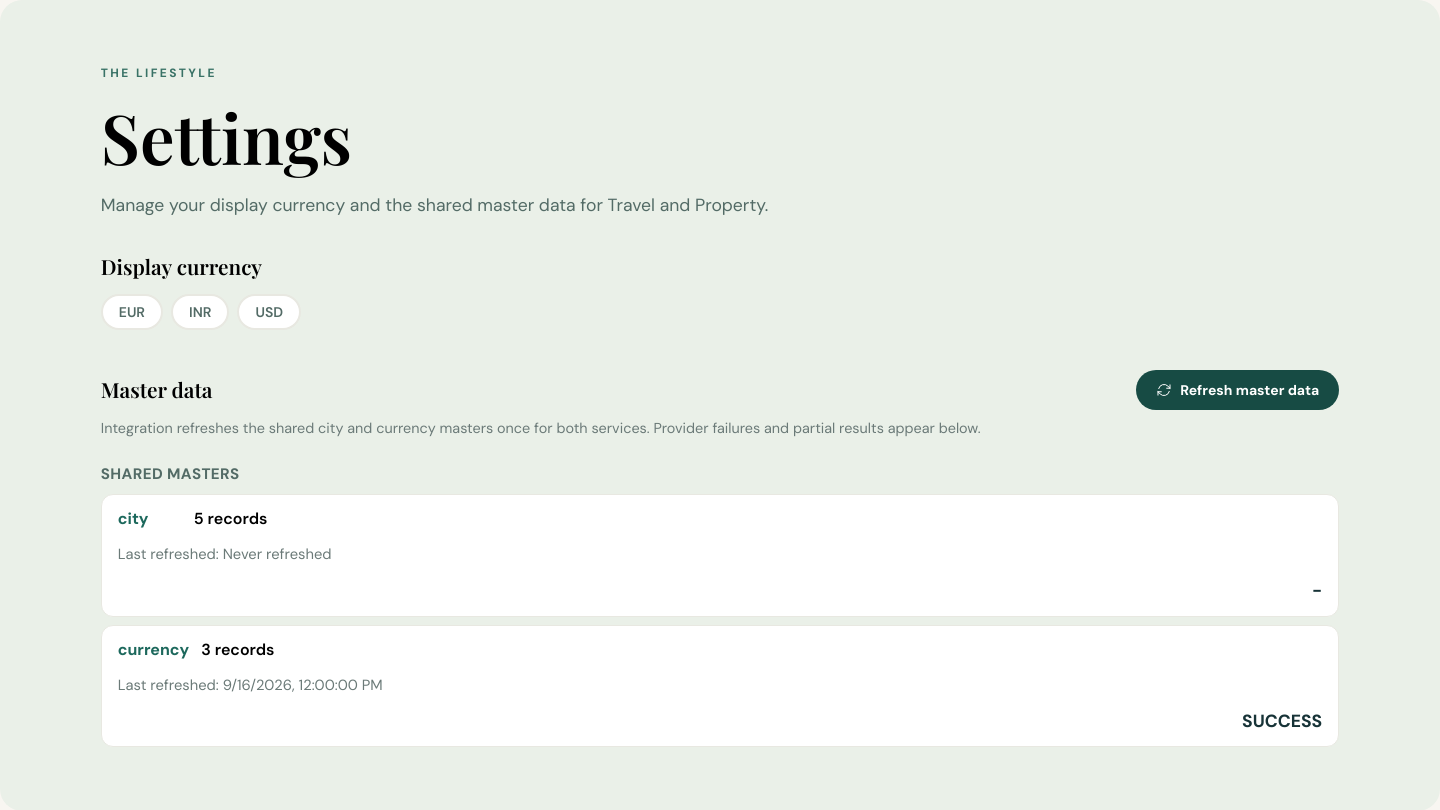
Settings shared masters › sends one POST, shows all outcomes, disables duplicate refreshes, and reloads both GETs
The image size is (1440, 810).
Expected: the list named "Shared masters" is shown, left=101, top=494, right=1339, bottom=747
Expected: the button "INR" is shown, left=171, top=294, right=229, bottom=330
Click the button "Refresh master data". click: [1238, 390]
box: left=1136, top=370, right=1339, bottom=410
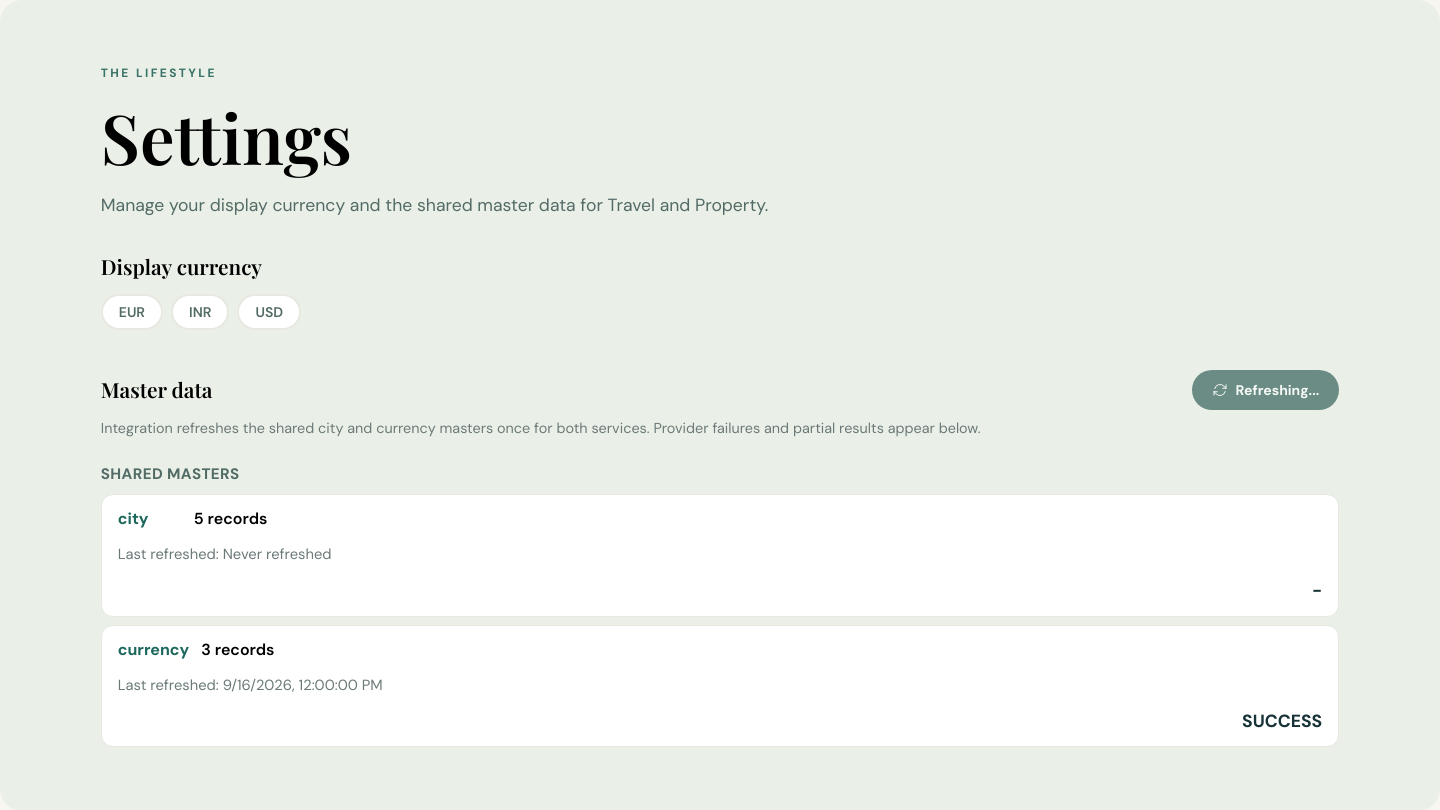
Expected: the button "Refreshing..." is disabled
Click the button "Refreshing...". click: [1265, 390]
box: left=1192, top=370, right=1339, bottom=410
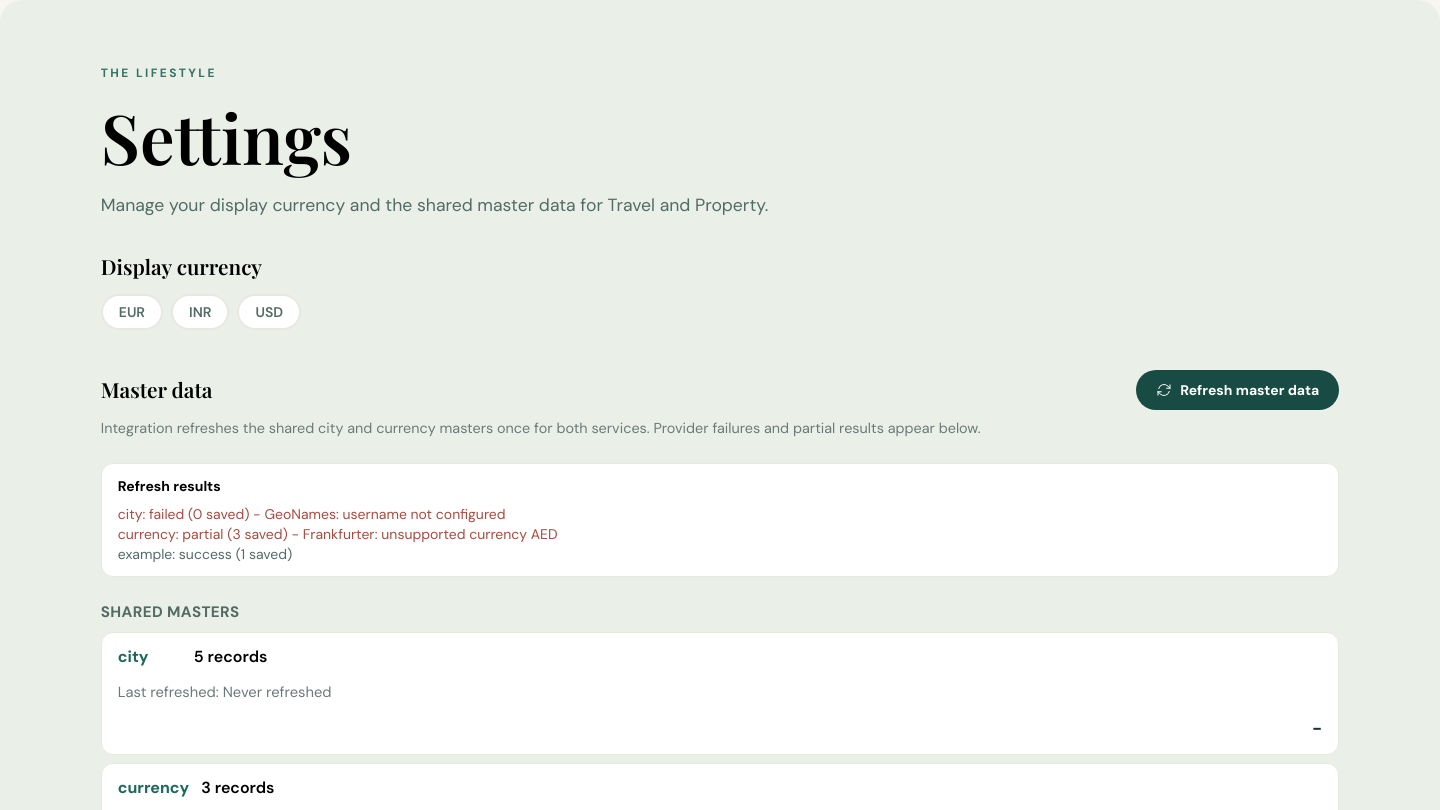
Expected: the button "Refresh master data" is enabled, left=1136, top=370, right=1339, bottom=410
Expected: the text "city: failed (0 saved) - GeoNames: username not configured" is shown, left=118, top=506, right=506, bottom=524
Expected: the text "example: success (1 saved)" is shown, left=118, top=546, right=292, bottom=564
